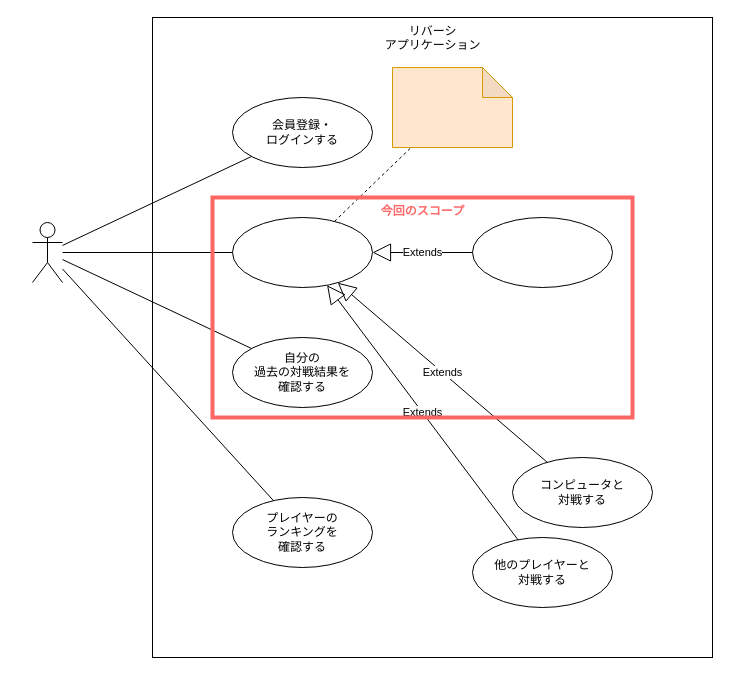
The diagram is 730 pixels wide and 675 high, and some of its shapes have lost their labels. Here are the shapes that lost their labels. From the top down, the centre of each, then its label:
At (452,107): "・対戦を開始する ・盤面を見る ・石を打つ ・勝敗を確認する".
At (47,252): "プレイヤー".
At (302,252): "対戦する".
At (542,252): "一人で黒白を 交互に打つ".
